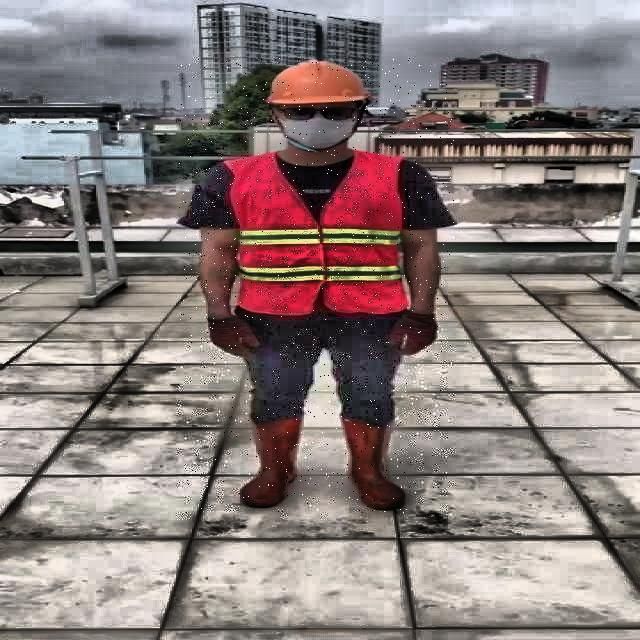safety_helmet: (263, 59, 372, 108)
safety_jacket: (222, 153, 411, 314)
